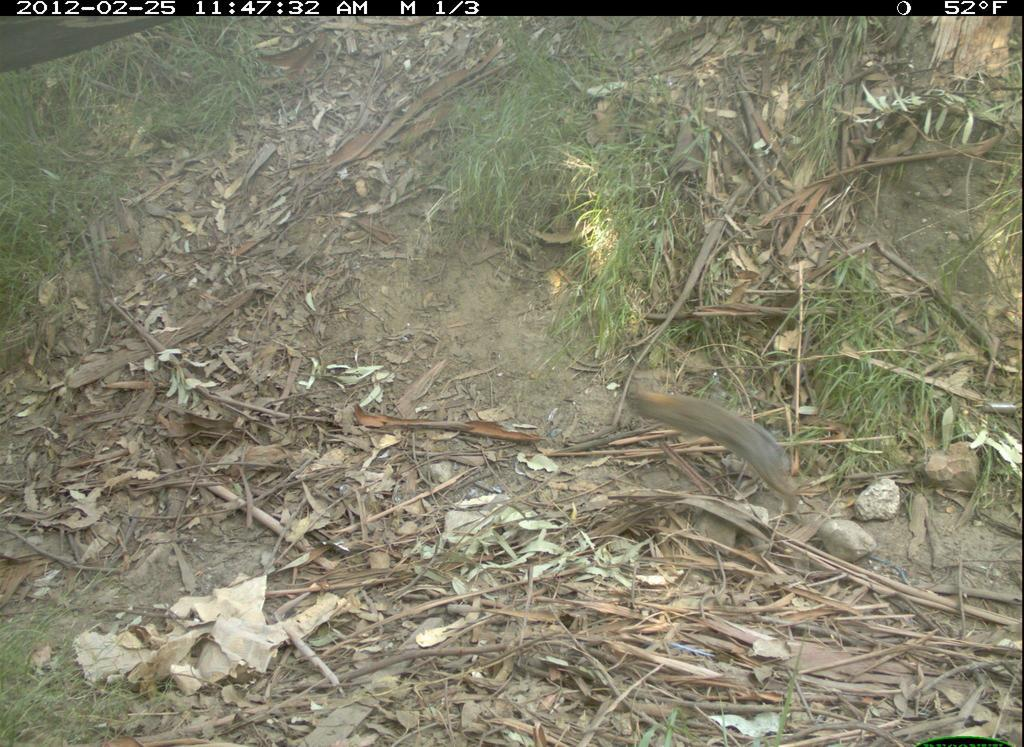rabbit: (607, 365, 838, 565)
